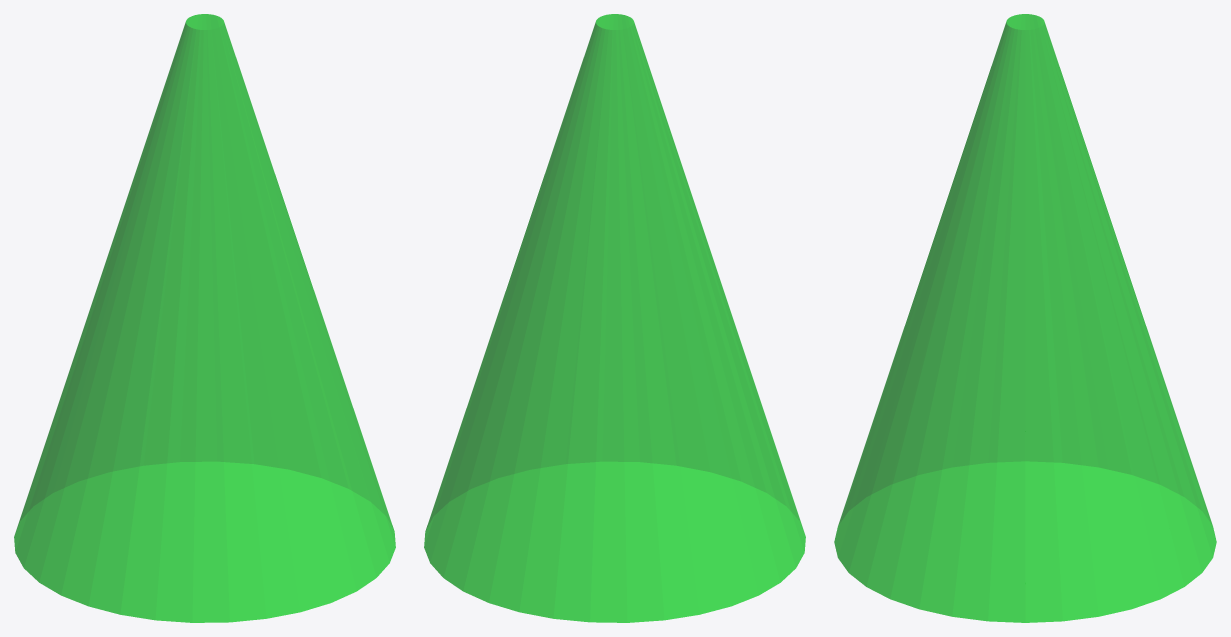
File: laser2.fbx
The picture shows the model from 3 angles, left to right: view 1: azimuth 30°, elevation 25°; view 2: azimuth 150°, elevation 25°; view 3: azimuth 270°, elevation 25°; orthographic projection.
Visible parts, largest first — view 1: 円柱; view 2: 円柱; view 3: 円柱.
Part boxes in pixels (box(x1,y1,x2,y2)): 円柱: box(14, 14, 395, 622); 円柱: box(424, 14, 805, 622); 円柱: box(834, 14, 1216, 622).
Size of the model in its own units: 10 by 15 by 10.
